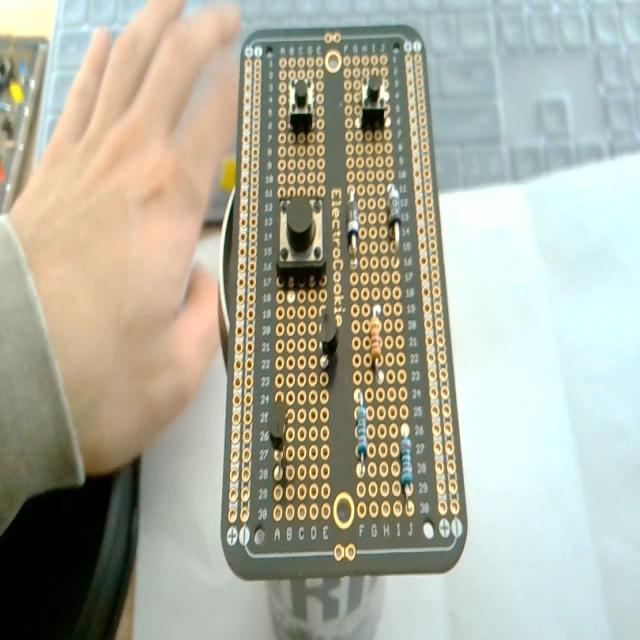diode: (387, 183, 402, 249), (347, 188, 359, 255)
resistor: (368, 306, 384, 386), (399, 434, 414, 498), (356, 396, 368, 472)
switch: (277, 195, 325, 274), (360, 76, 388, 129), (289, 76, 314, 131)
transistor: (318, 310, 341, 370), (268, 407, 286, 480)
